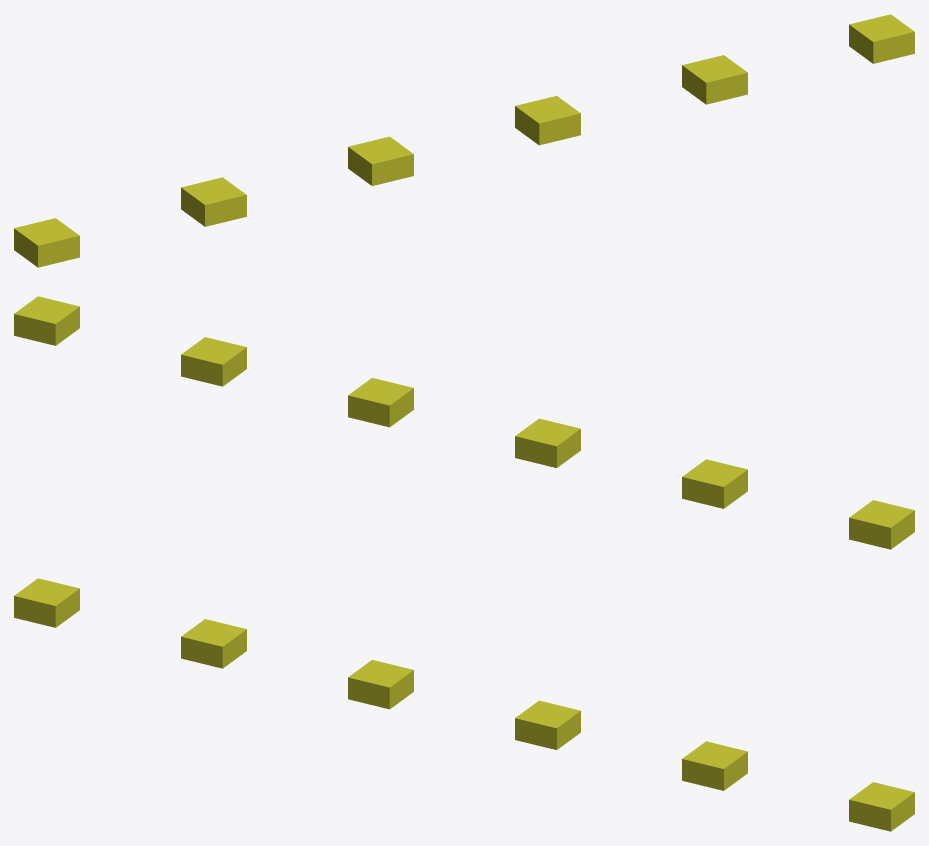
File: obj_street1.fbx
The picture shows the model from 3 angles, top to bottom: view 1: azimuth 30°, elevation 25°; view 2: azimuth 150°, elevation 25°; view 3: azimuth 330°, elevation 25°; orthographic projection.
Visible parts, largest first — view 1: obj_street1; view 2: obj_street1; view 3: obj_street1.
Part boxes in pixels (left/top/right/bottom): obj_street1: left=14, top=14, right=914, bottom=267; obj_street1: left=14, top=296, right=914, bottom=549; obj_street1: left=14, top=578, right=914, bottom=831.
Size of the model in its own units: 4.2 by 0.2 by 0.1.
1 material, 1 textured.
